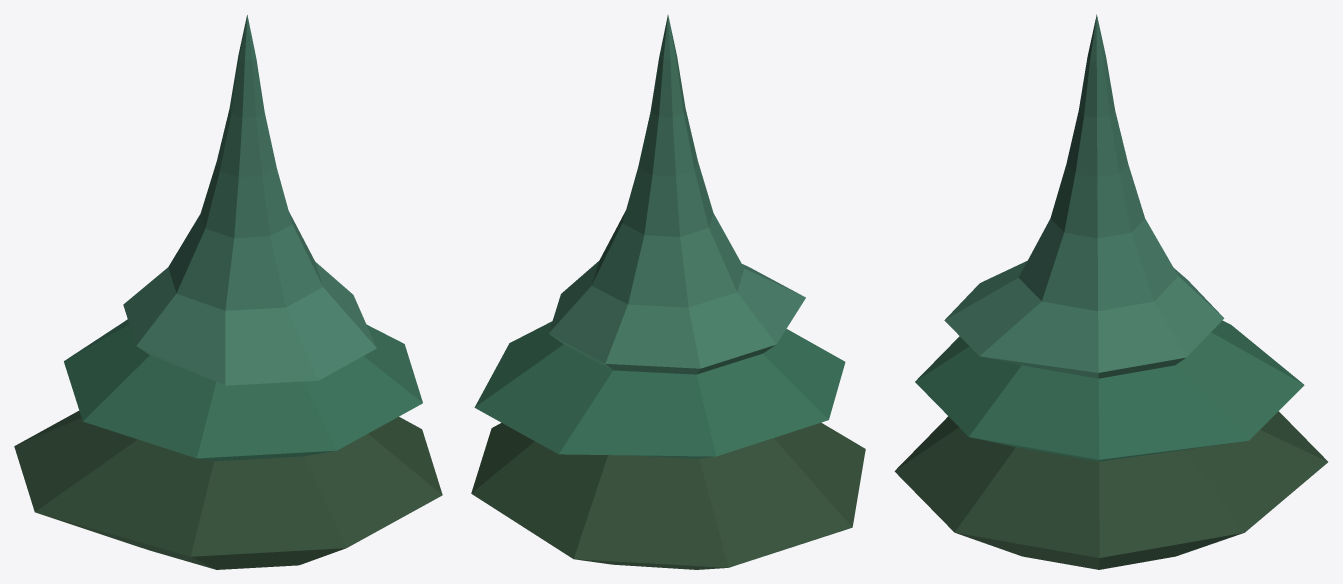
The model's file is TinyTanne.fbx.
3 renders of one model, left to right at view 1: azimuth 30°, elevation 25°; view 2: azimuth 150°, elevation 25°; view 3: azimuth 270°, elevation 25°, orthographic.
Visible parts, largest first — view 1: Tinytanne; view 2: Tinytanne; view 3: Tinytanne.
Boxes of the visible parts, x1,y1,x2,y2 form: Tinytanne: (14,15,442,569); Tinytanne: (471,14,865,569); Tinytanne: (894,14,1327,569).
Size of the model in its own units: 315 by 412 by 317.
